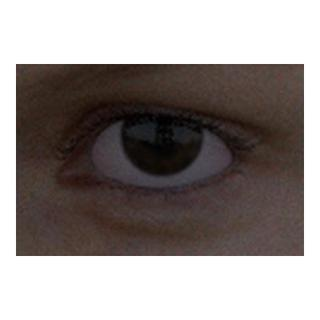pupil: (144, 118, 178, 151)
